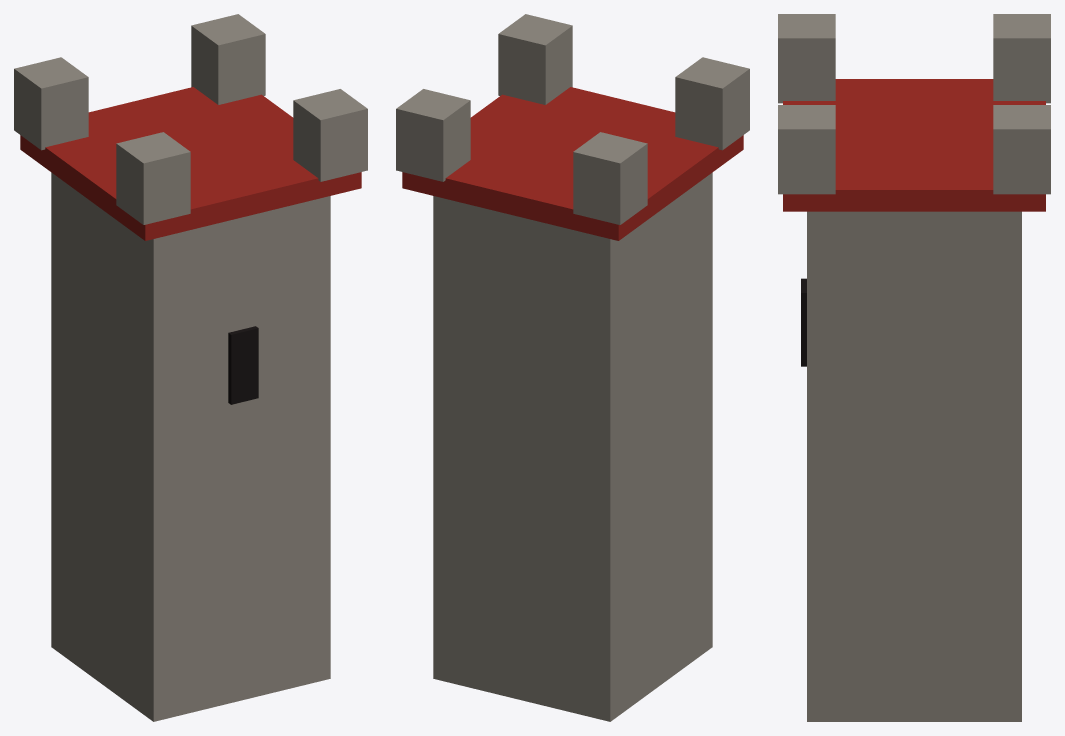
Rendered from dragon_tower_broken.glb.
The picture shows the model from 3 angles, left to right: view 1: azimuth 30°, elevation 25°; view 2: azimuth 150°, elevation 25°; view 3: azimuth 270°, elevation 25°; orthographic projection. The views are drawn at different scales.
Visible parts, largest first — view 1: dragon_tower_piece3, dragon_tower_piece0, dragon_tower_piece4, dragon_tower_piece6, dragon_tower_piece7, dragon_tower_piece5, dragon_tower_piece1, dragon_tower_piece8, dragon_tower_piece2, dragon_tower_piece9; view 2: dragon_tower_piece4, dragon_tower_piece6, dragon_tower_piece7, dragon_tower_piece0, dragon_tower_piece9; view 3: dragon_tower_piece0, dragon_tower_piece5, dragon_tower_piece1, dragon_tower_piece2, dragon_tower_piece6, dragon_tower_piece3, dragon_tower_piece9.
Boxes of the visible parts, x1,y1,x2,y2 form: dragon_tower_piece3: (169,310,330,713); dragon_tower_piece0: (149,14,367,336); dragon_tower_piece4: (51,195,173,555); dragon_tower_piece6: (14,21,207,363); dragon_tower_piece7: (51,473,187,721); dragon_tower_piece5: (267,306,330,492); dragon_tower_piece1: (252,192,331,381); dragon_tower_piece8: (226,180,327,343); dragon_tower_piece2: (303,111,367,229); dragon_tower_piece9: (166,305,229,384); dragon_tower_piece4: (437,269,712,630); dragon_tower_piece6: (423,67,749,372); dragon_tower_piece7: (433,413,712,721); dragon_tower_piece0: (396,14,743,371); dragon_tower_piece9: (433,366,445,487); dragon_tower_piece0: (778,17,1050,392); dragon_tower_piece5: (807,329,1018,721); dragon_tower_piece1: (801,250,1021,666); dragon_tower_piece2: (778,132,1021,582); dragon_tower_piece6: (778,14,1050,157); dragon_tower_piece3: (801,278,948,721); dragon_tower_piece9: (896,324,1021,512).
Size of the model in its own units: 1.14 by 2.79 by 1.14.
